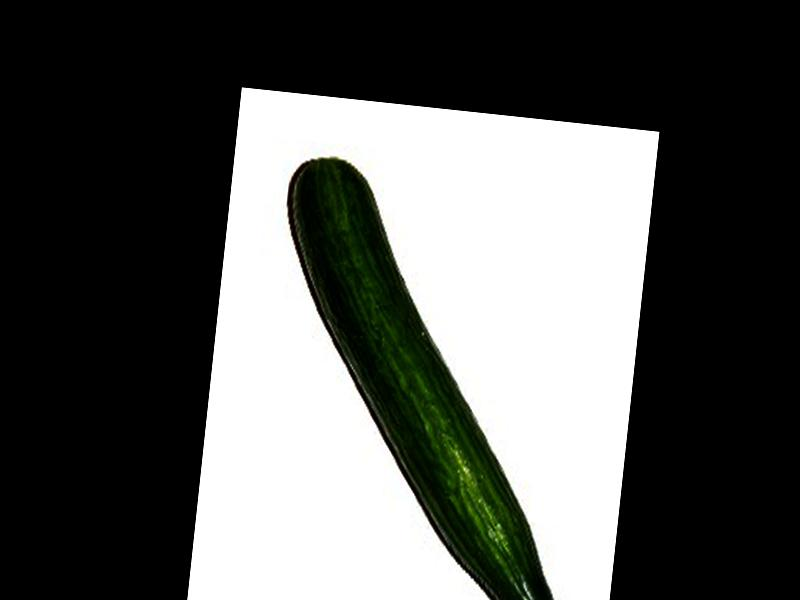Cucumber: (247, 154, 597, 600)
